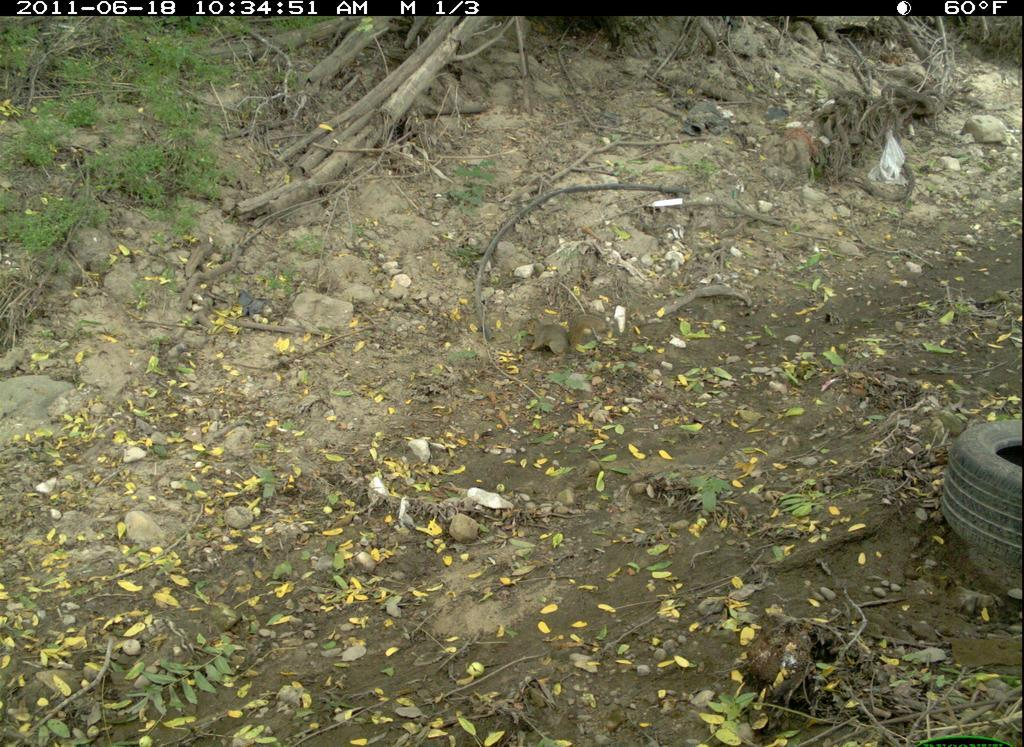squirrel: (523, 313, 613, 360)
